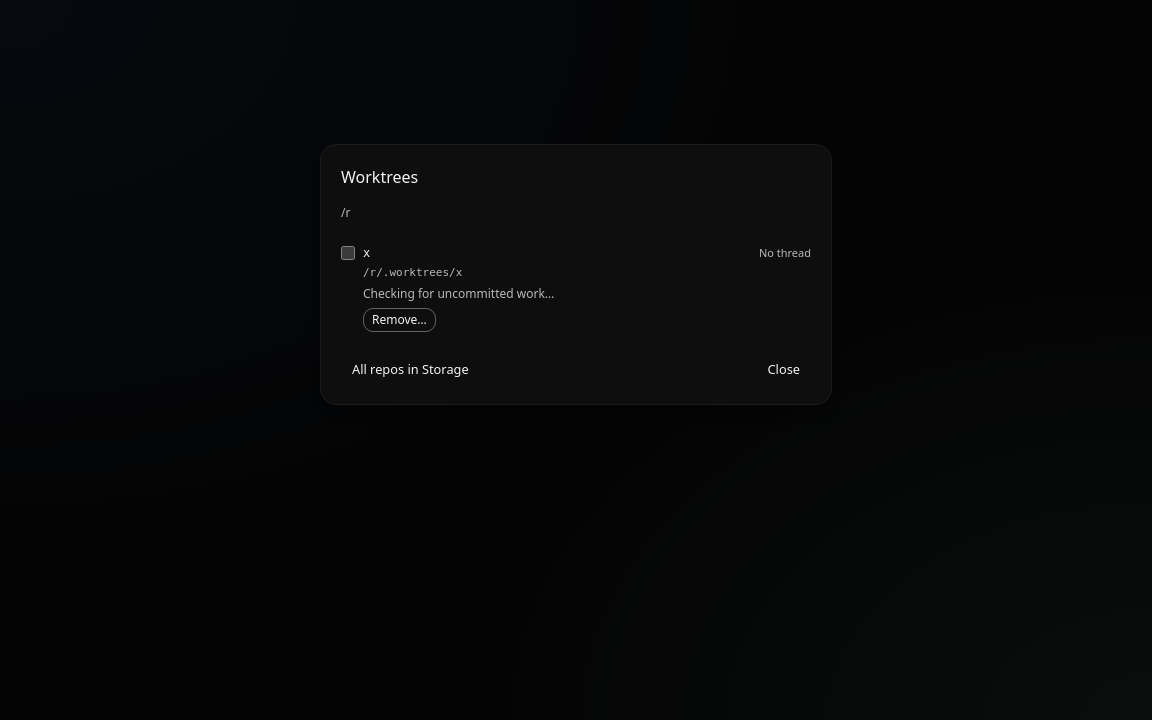
WorktreesDialog › shows the server's refusal inline
Click the button "Remove…". click: (399,320)
box: [363,308,436,332]
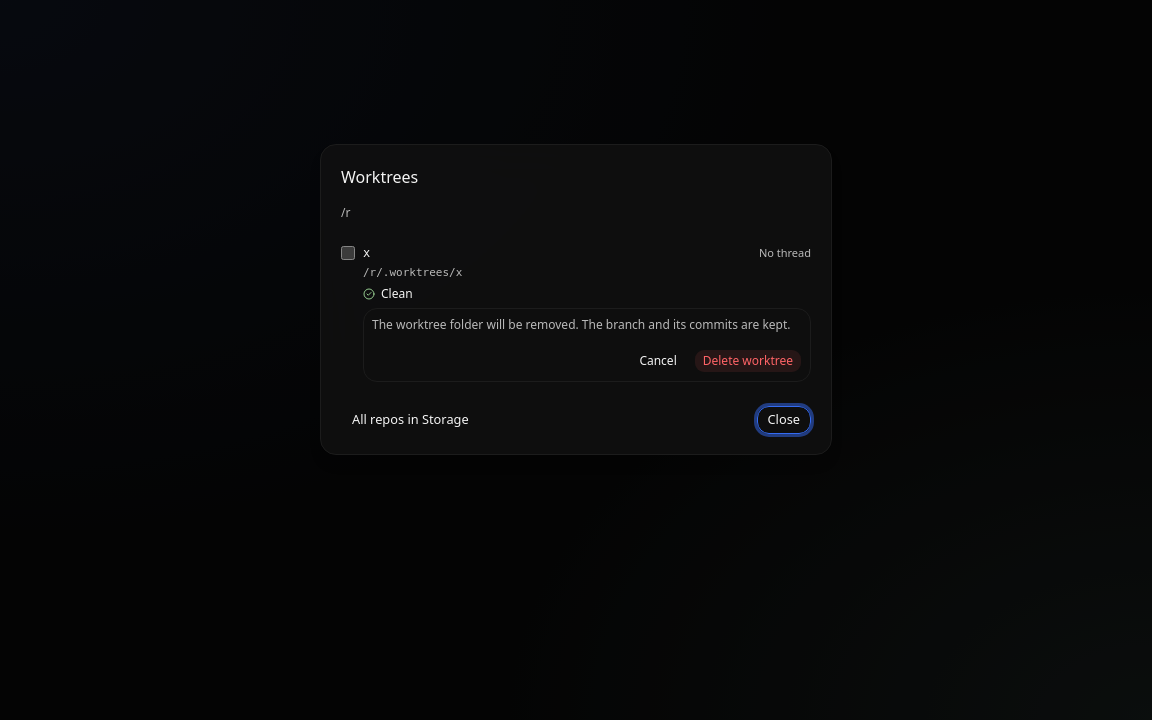
Expected: the button "Delete worktree" is enabled
Click the button "Delete worktree". click: (748,360)
box: [694,348,802,372]
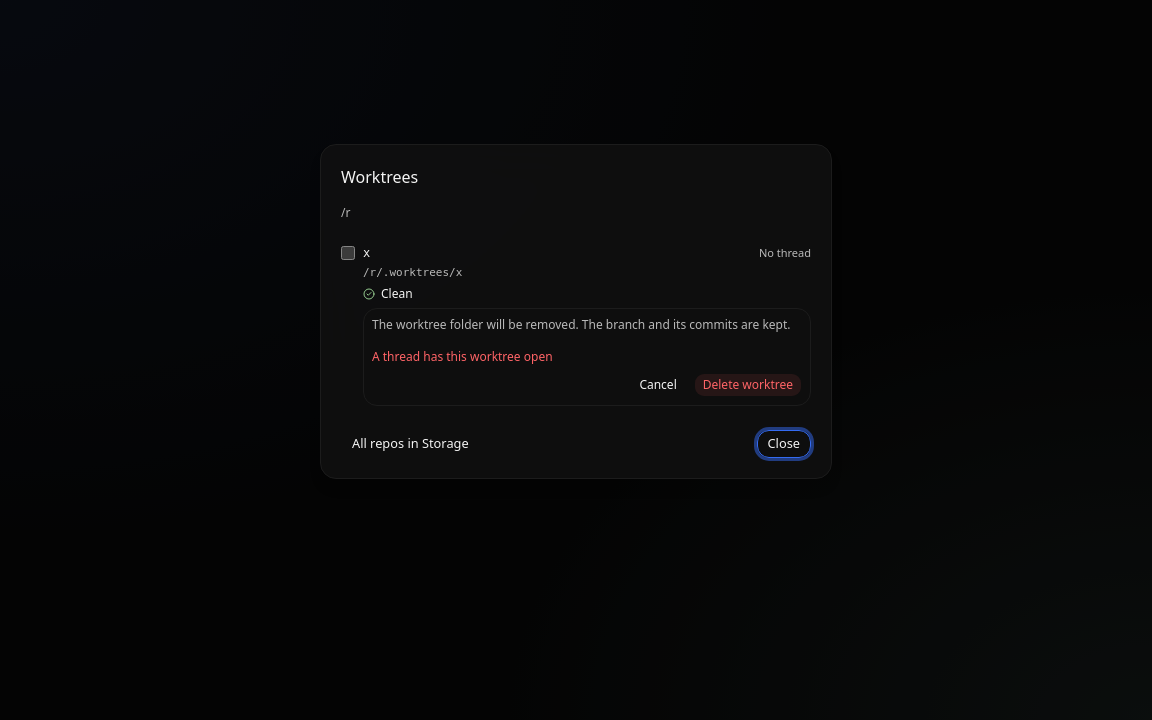
Expected: the message reads "A thread has this worktree open", [372,348,553,364]
